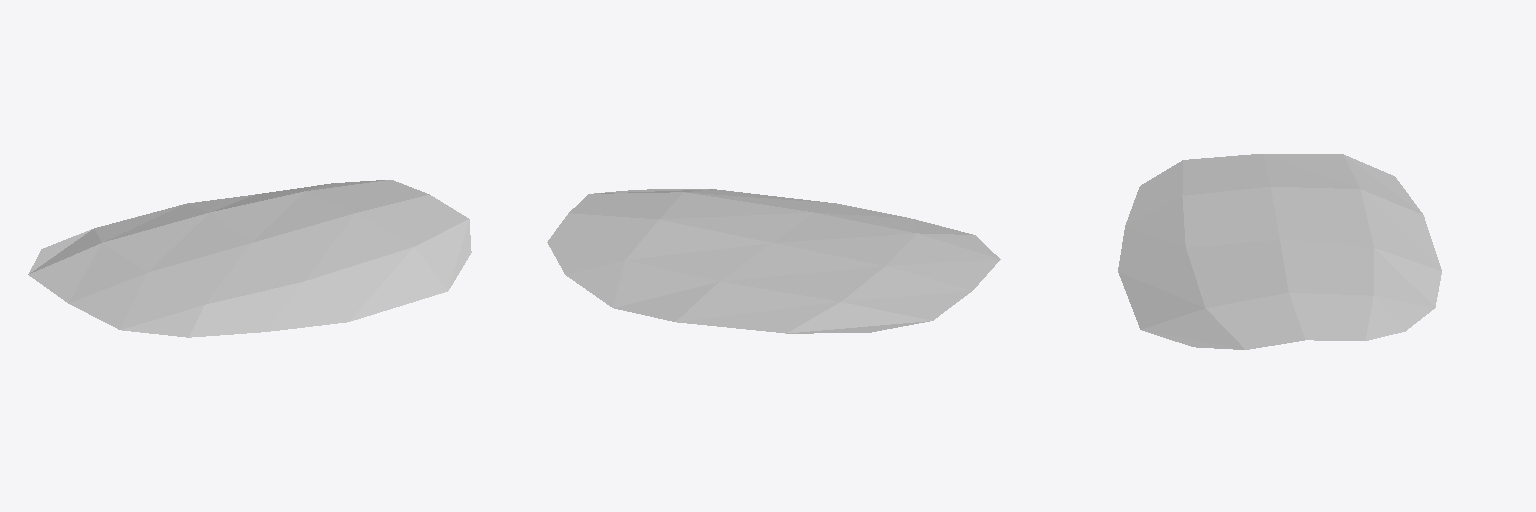
The model's file is Chip2.obj.
3 views of the same model, side by side, from view 1: azimuth 30°, elevation 25°; view 2: azimuth 150°, elevation 25°; view 3: azimuth 270°, elevation 25° (orthographic).
Visible parts, largest first — view 1: Chip2; view 2: Chip2; view 3: Chip2.
Part boxes in pixels (x1,y1,x2,y2): Chip2: (28,180,471,337); Chip2: (547,189,1000,333); Chip2: (1118,154,1441,349).
Size of the model in its own units: 2.93 by 0.2034 by 2.1.